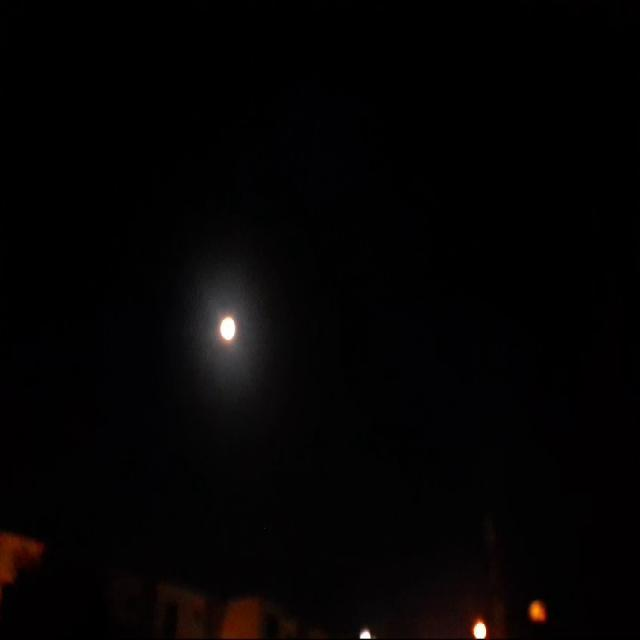moon: (216, 306, 238, 345)
